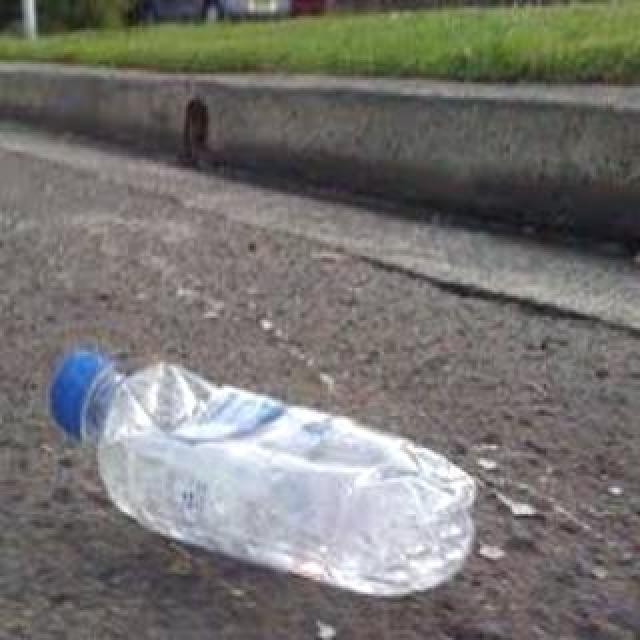Pet_Bottle: (44, 346, 480, 604)
